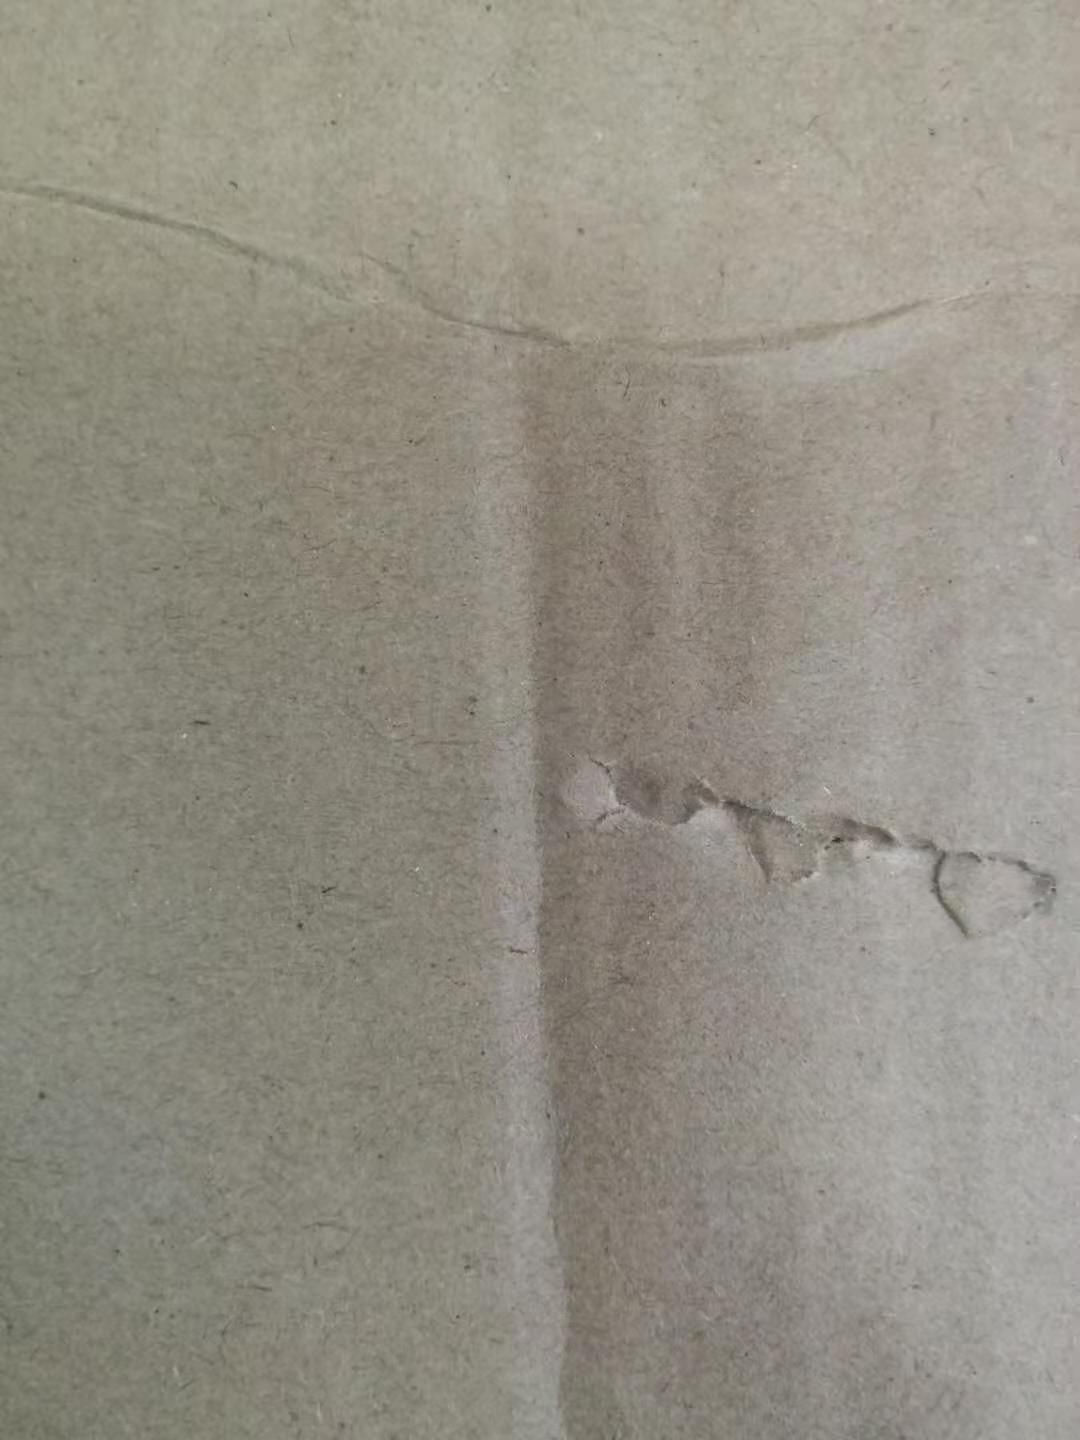defect: (2, 122, 1080, 423), (452, 344, 646, 1440), (545, 698, 1080, 982)
